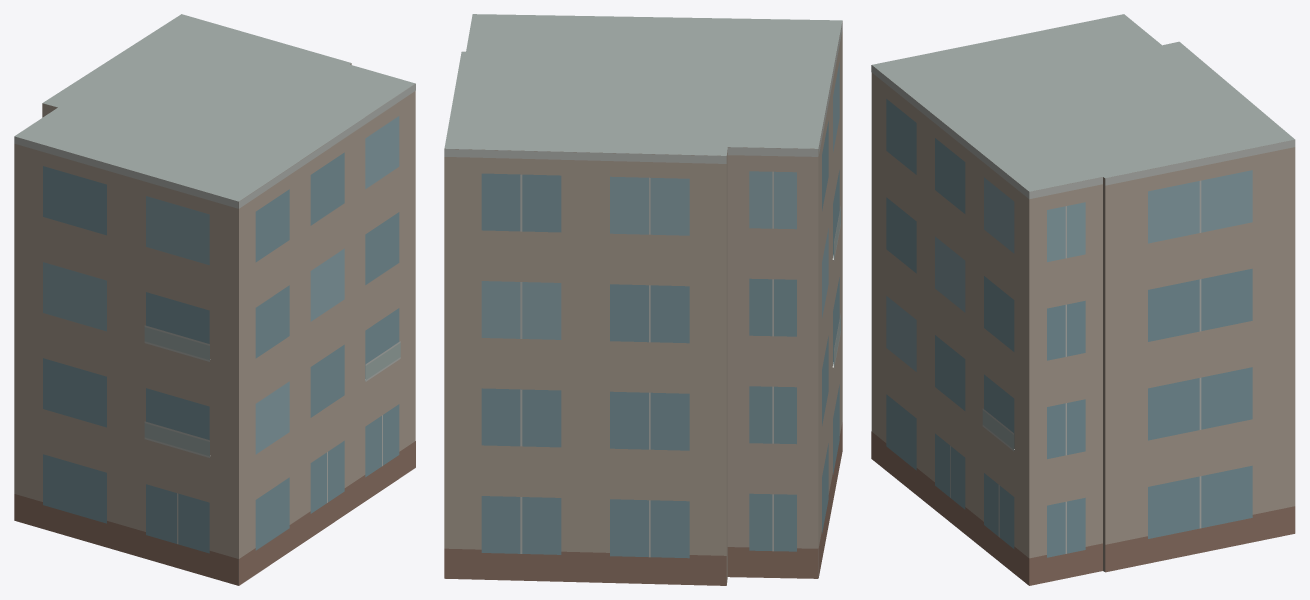
Rendered from survey-upis-32748308.glb.
The picture shows the model from 3 angles, left to right: view 1: azimuth 30°, elevation 25°; view 2: azimuth 150°, elevation 25°; view 3: azimuth 270°, elevation 25°; orthographic projection. The views are drawn at different scales.
Parts seen in each view (by area): view 1: survey-upis-32748308.tmp; view 2: survey-upis-32748308.tmp; view 3: survey-upis-32748308.tmp.
Part boxes in pixels (bbox=[...]): survey-upis-32748308.tmp: bbox=[14, 14, 415, 585]; survey-upis-32748308.tmp: bbox=[444, 14, 842, 585]; survey-upis-32748308.tmp: bbox=[871, 14, 1295, 585].
Bounding box in the file's own units: 12.54 × 12.95 × 12.63.
